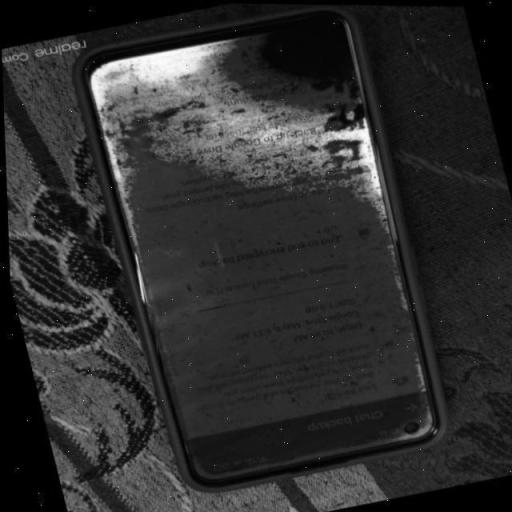phone: (67, 15, 442, 498)
